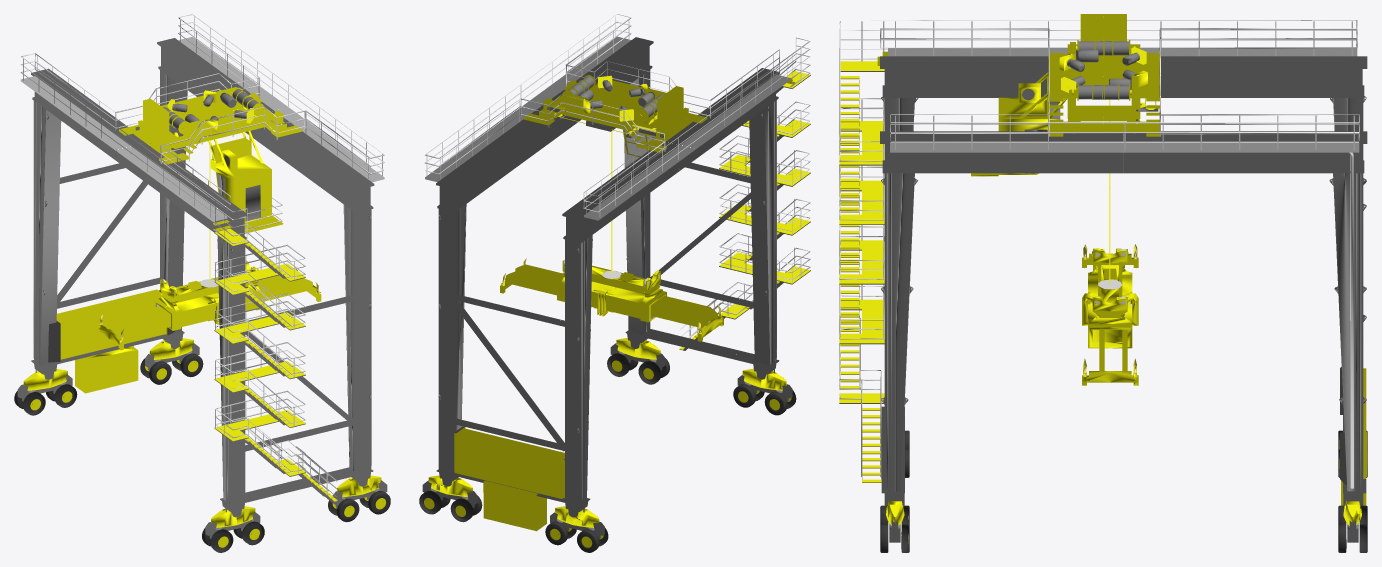
The model's file is rtg_crane.glb.
The picture shows the model from 3 angles, left to right: view 1: azimuth 30°, elevation 25°; view 2: azimuth 150°, elevation 25°; view 3: azimuth 270°, elevation 25°; orthographic projection. The views are drawn at different scales.
Parts seen in each view (by area): view 1: C-Group#451; view 2: C-Group#451; view 3: C-Group#451.
Part boxes in pixels (x1,y1,x2,y2): C-Group#451: [14, 14, 390, 552]; C-Group#451: [419, 14, 810, 552]; C-Group#451: [839, 14, 1367, 552].
Size of the model in its own units: 9.46 by 16.7 by 17.54.
